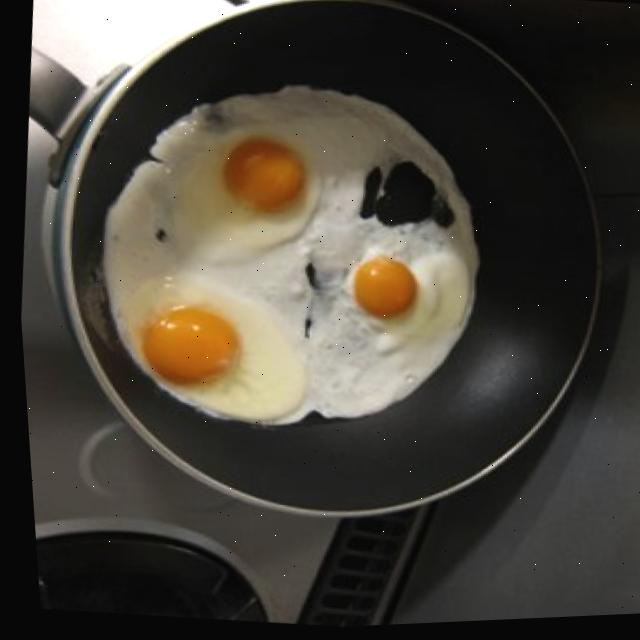鸡蛋料理: (27, 0, 606, 561)
